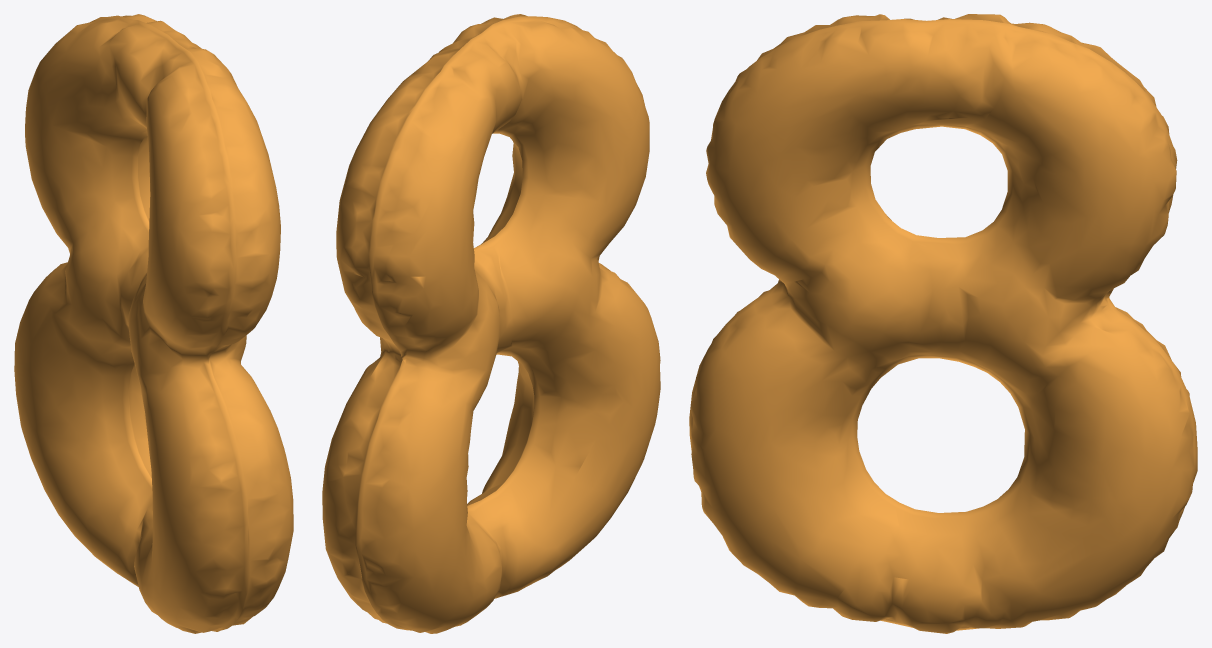
Rendered from ballon8.glb.
3 views of the same model, side by side, from view 1: azimuth 30°, elevation 25°; view 2: azimuth 150°, elevation 25°; view 3: azimuth 270°, elevation 25° (orthographic). The views are drawn at different scales.
Visible parts, largest first — view 1: 8; view 2: 8; view 3: 8.
Boxes of the visible parts, <box> form: 8: <box>14,14,293,633</box>; 8: <box>322,14,660,633</box>; 8: <box>689,14,1197,633</box>.
Bounding box in the file's own units: 1.29 × 4.58 × 3.46.
